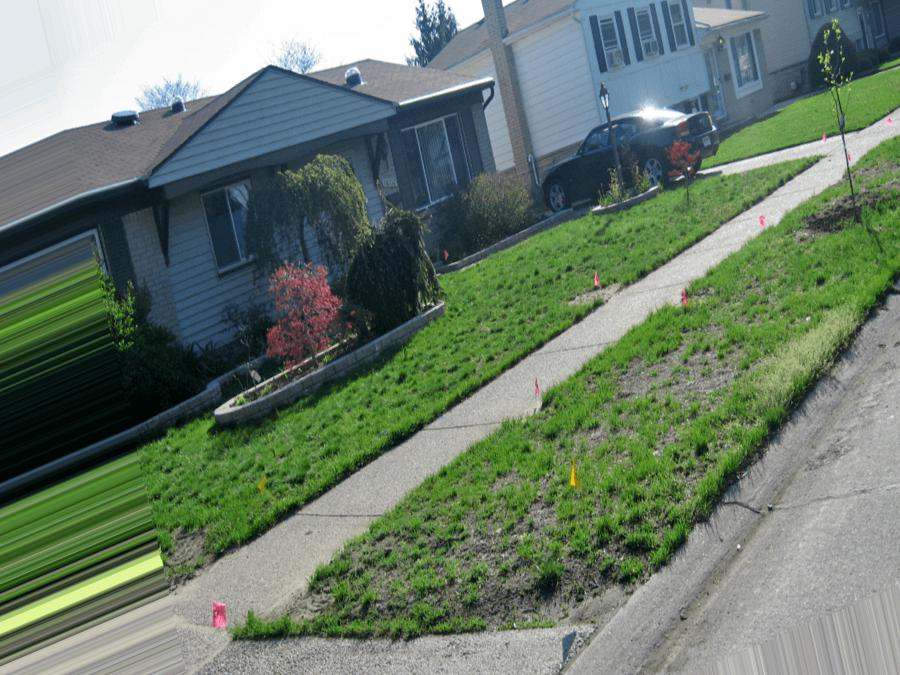patch: (415, 525, 595, 613), (617, 352, 741, 396)
